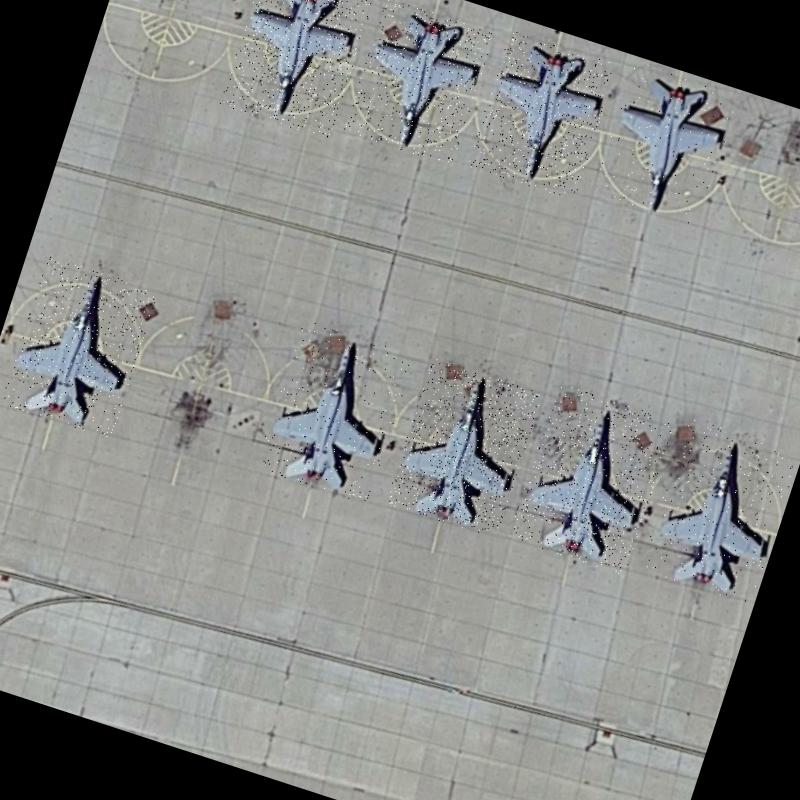A16: (508, 383, 675, 576), (639, 417, 800, 605), (254, 319, 416, 505), (0, 256, 159, 440), (385, 358, 543, 539), (466, 30, 618, 201), (343, 0, 495, 166), (592, 62, 740, 230), (219, 0, 375, 140)
